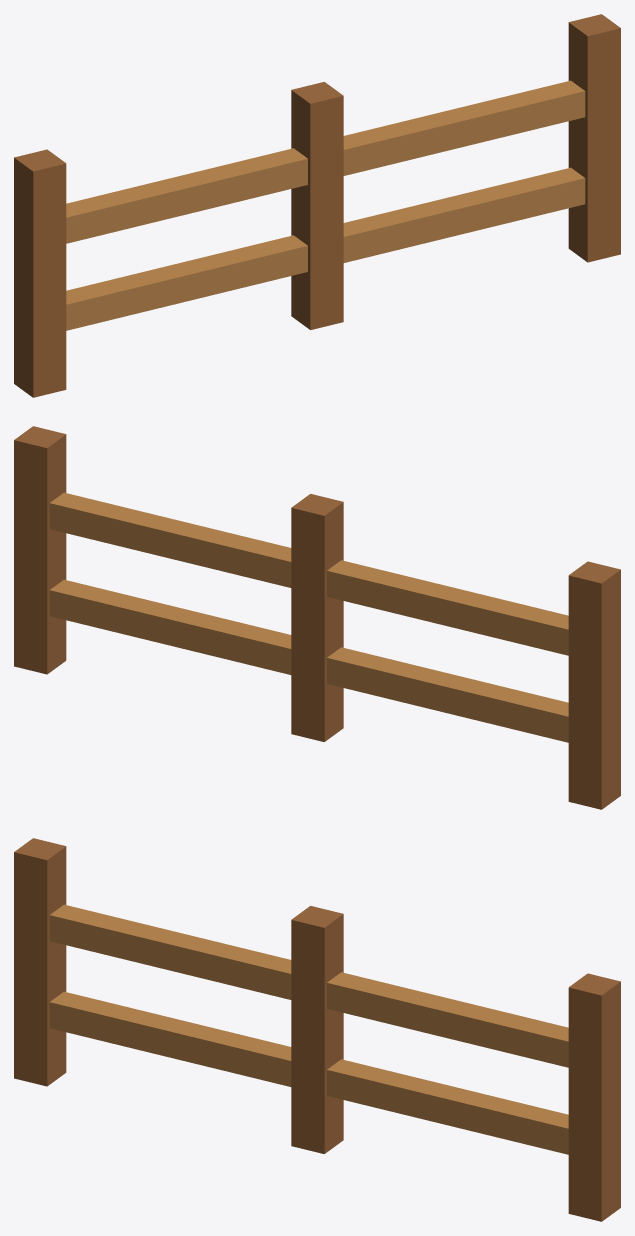
Rendered from fence_straight.glb.
The picture shows the model from 3 angles, top to bottom: view 1: azimuth 30°, elevation 25°; view 2: azimuth 150°, elevation 25°; view 3: azimuth 330°, elevation 25°; orthographic projection.
Visible parts, largest first — view 1: Rail_Low, Rail_High, Post_-2, Post_0.001, Post_2; view 2: Rail_Low, Rail_High, Post_-2, Post_0.001, Post_2; view 3: Rail_Low, Rail_High, Post_2, Post_0.001, Post_-2.
Part boxes in pixels (bbox=[...]): Rail_Low: bbox=[66, 167, 585, 330]; Rail_High: bbox=[66, 80, 585, 243]; Post_-2: bbox=[14, 149, 66, 397]; Post_0.001: bbox=[291, 82, 343, 329]; Post_2: bbox=[568, 14, 620, 262]; Rail_Low: bbox=[49, 579, 568, 742]; Rail_High: bbox=[49, 492, 568, 655]; Post_-2: bbox=[568, 561, 620, 809]; Post_0.001: bbox=[291, 494, 343, 741]; Post_2: bbox=[14, 426, 66, 674]; Rail_Low: bbox=[49, 991, 568, 1154]; Rail_High: bbox=[49, 904, 568, 1067]; Post_2: bbox=[568, 973, 620, 1221]; Post_0.001: bbox=[291, 906, 343, 1153]; Post_-2: bbox=[14, 838, 66, 1086].
Size of the model in its own units: 4.24 by 1.56 by 0.24.
